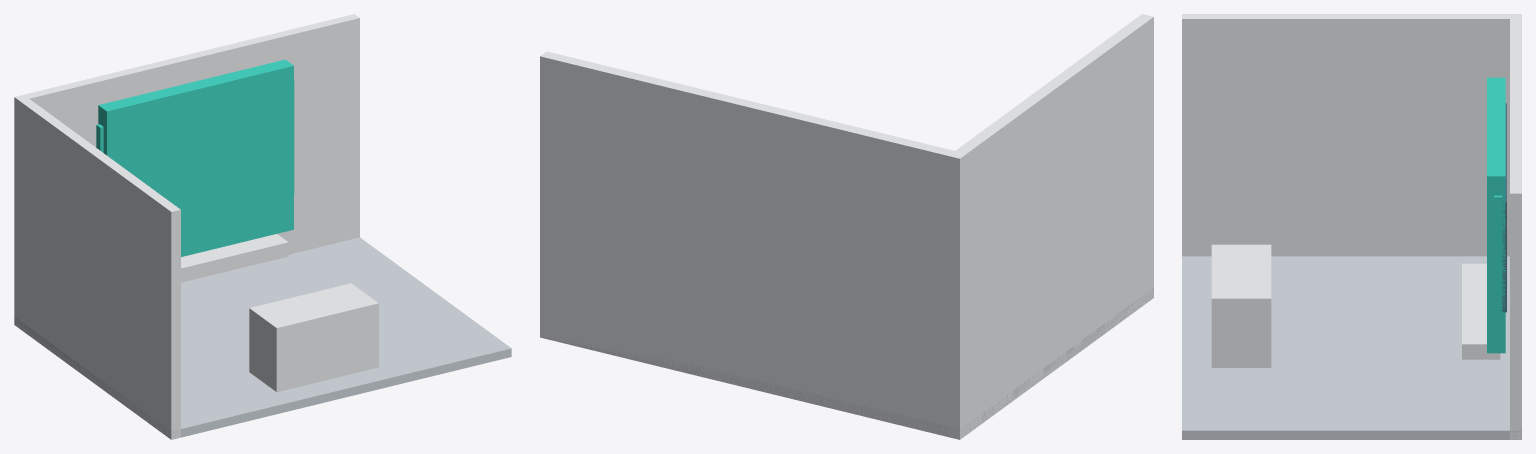
3 views of the same model, side by side, from view 1: azimuth 30°, elevation 25°; view 2: azimuth 150°, elevation 25°; view 3: azimuth 270°, elevation 25° (orthographic). The views are drawn at different scales.
Parts seen in each view (by area): view 1: Exhibition Booth Concept; view 2: Exhibition Booth Concept; view 3: Exhibition Booth Concept.
Boxes of the visible parts, <box> form: Exhibition Booth Concept: <box>14,14,511,439</box>; Exhibition Booth Concept: <box>540,14,1153,439</box>; Exhibition Booth Concept: <box>1182,14,1521,439</box>.
Bounding box in the file's own units: 5 × 3.2 × 4.
